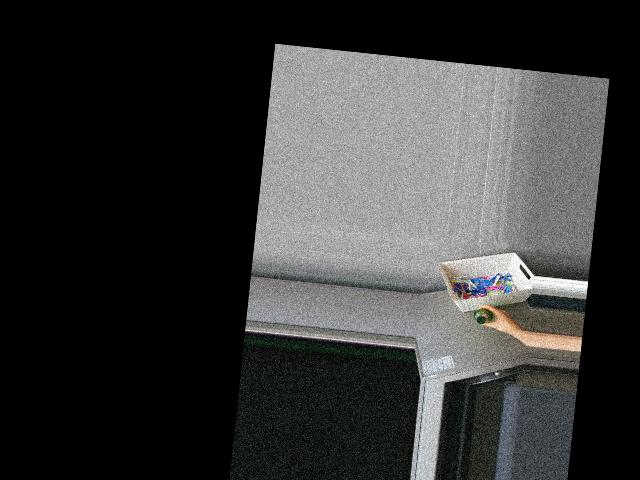beer: (472, 307, 494, 325)
